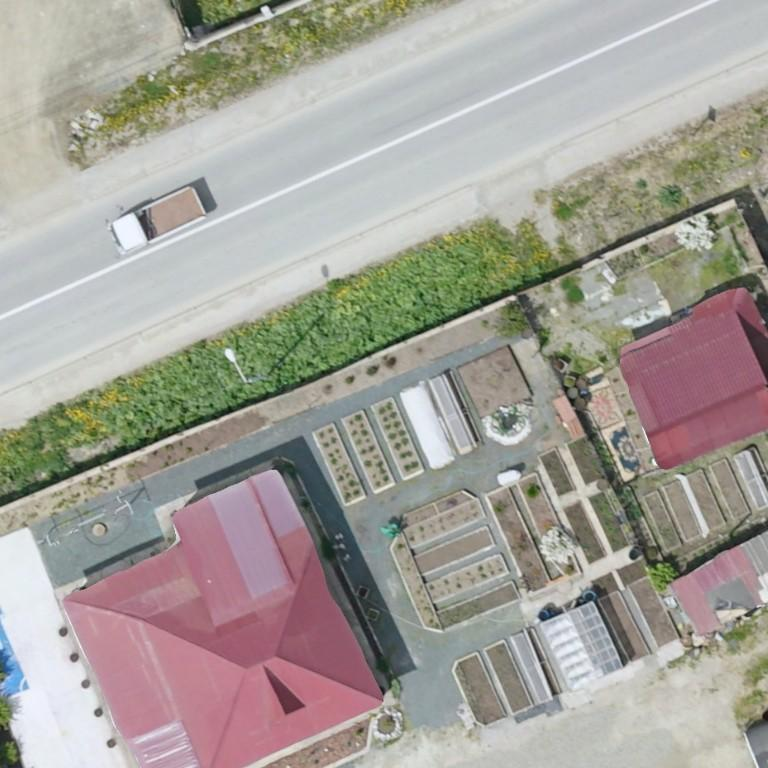hogweed: (106, 241, 524, 452)
